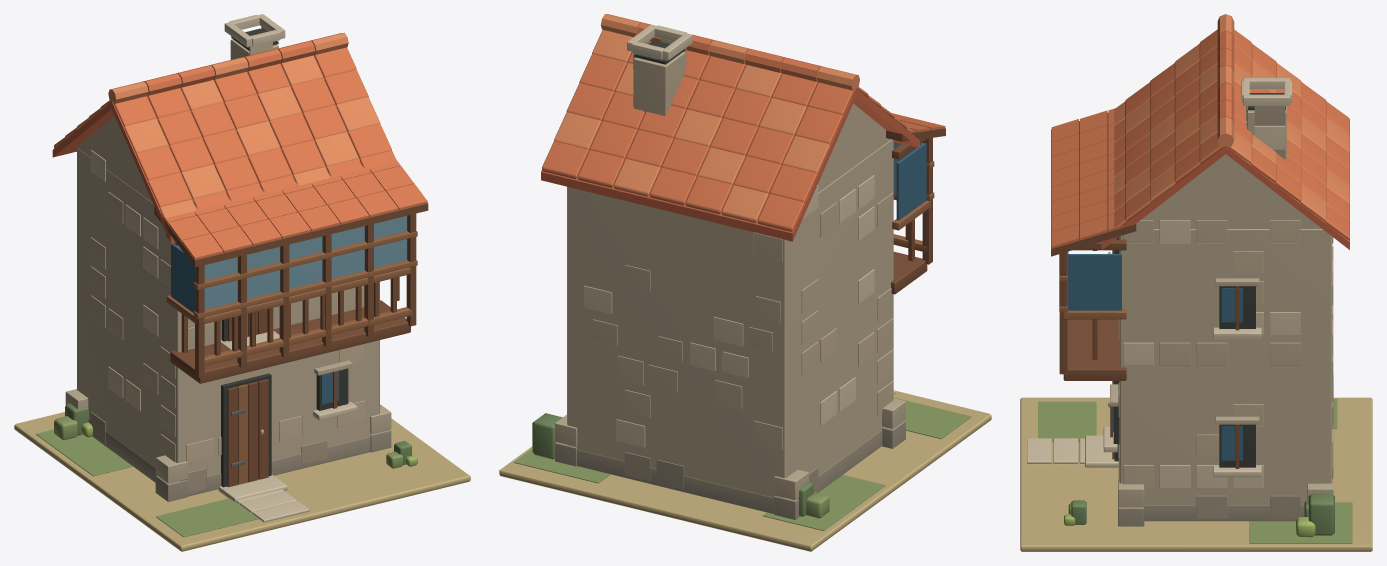
Rendered from house_tall_gallery.glb.
3 views of the same model, side by side, from view 1: azimuth 30°, elevation 25°; view 2: azimuth 150°, elevation 25°; view 3: azimuth 270°, elevation 25° (orthographic). The views are drawn at different scales.
Parts seen in each view (by area): view 1: house_tall_gallery; view 2: house_tall_gallery; view 3: house_tall_gallery.
Boxes of the visible parts, left/top/right/bottom form: house_tall_gallery: left=14, top=14, right=470, bottom=551; house_tall_gallery: left=499, top=14, right=991, bottom=551; house_tall_gallery: left=1020, top=14, right=1372, bottom=551.
Size of the model in its own units: 2.4 by 3.11 by 2.4.
